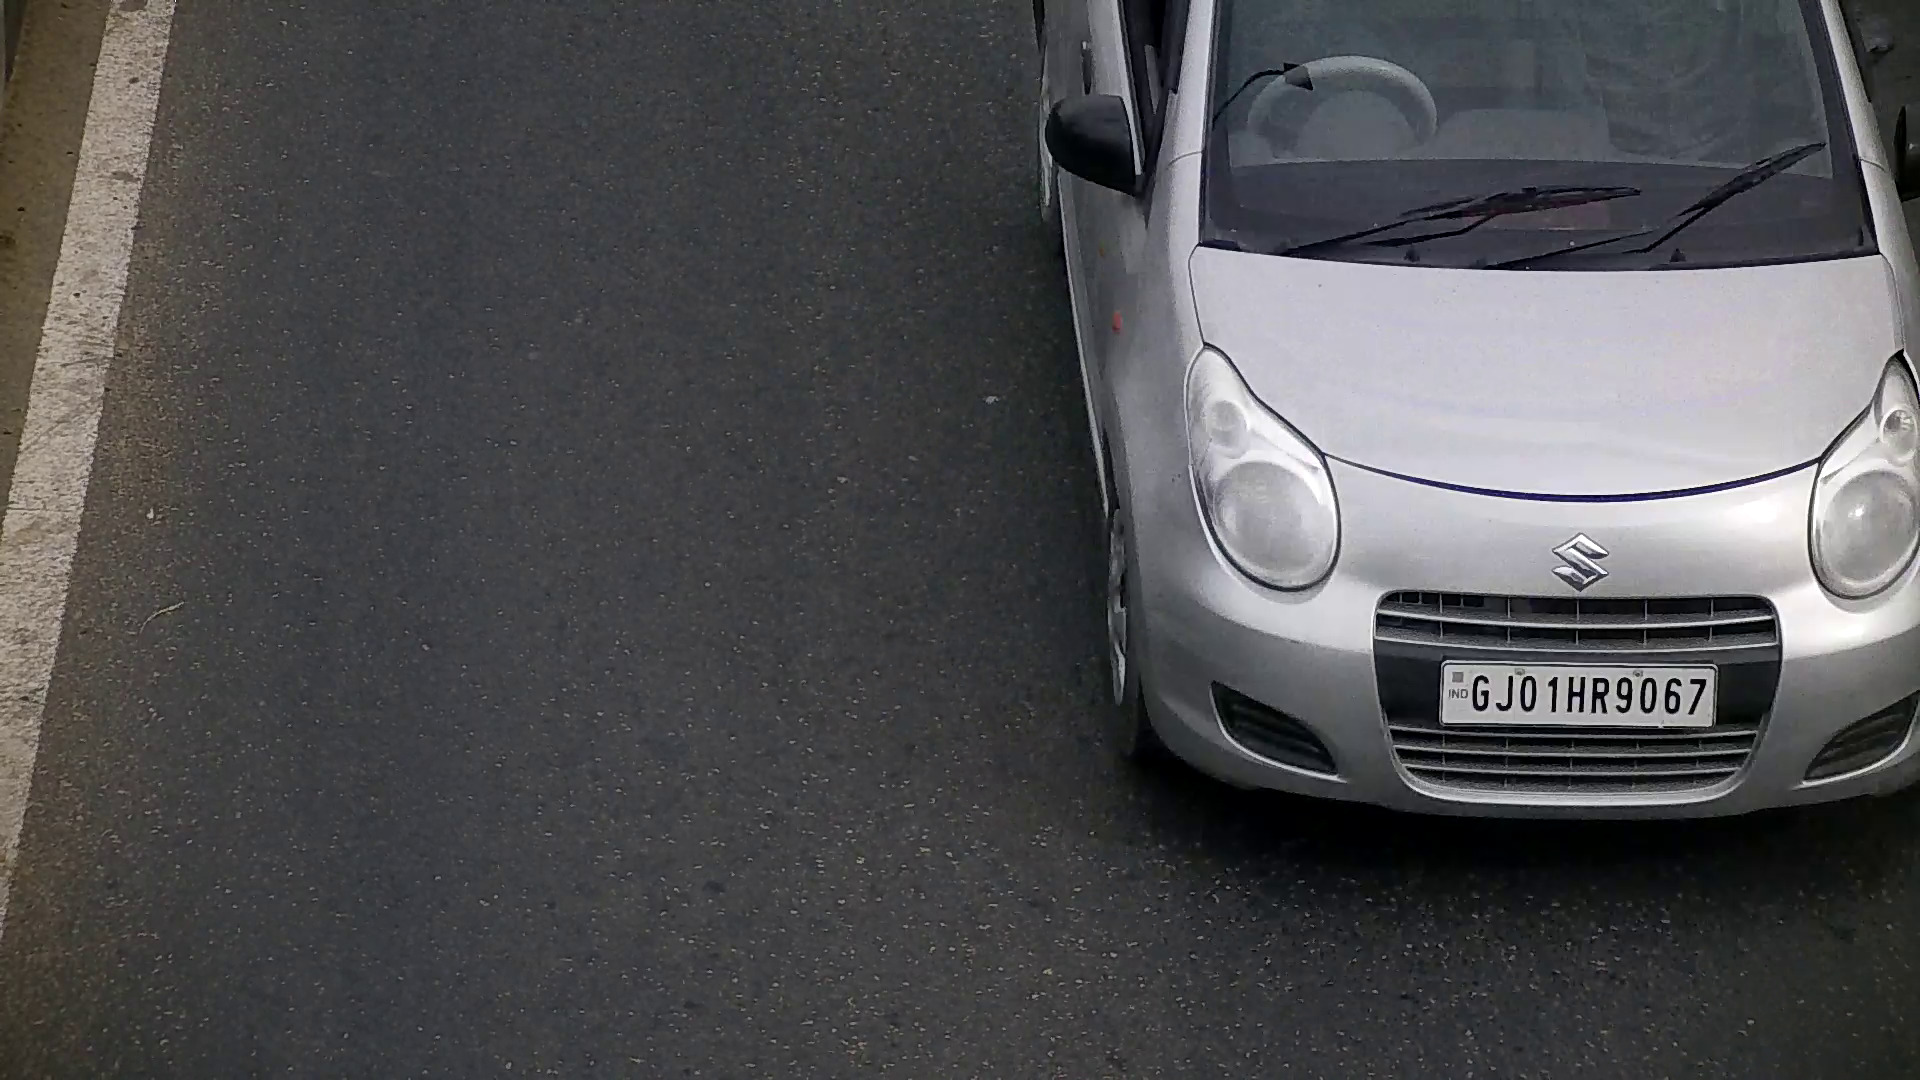numberplate: (1433, 653, 1719, 726)
